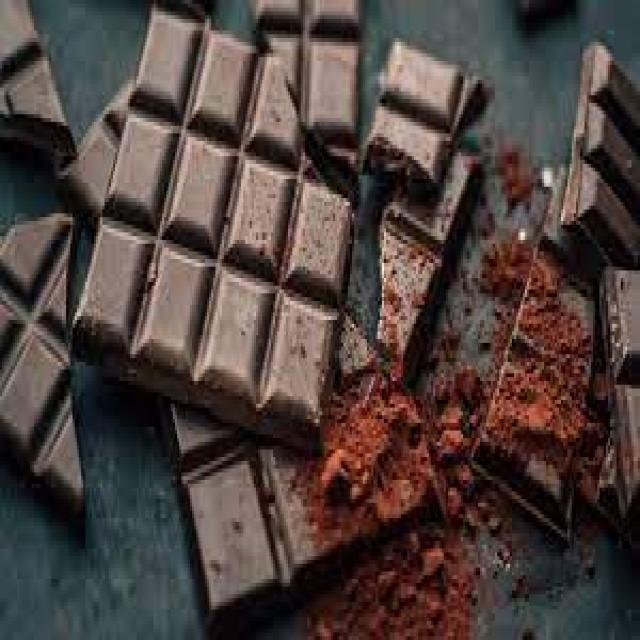Chocolate: (66, 0, 354, 450), (154, 320, 449, 640), (473, 44, 640, 568), (359, 36, 485, 388), (0, 203, 87, 546), (0, 0, 79, 168)
